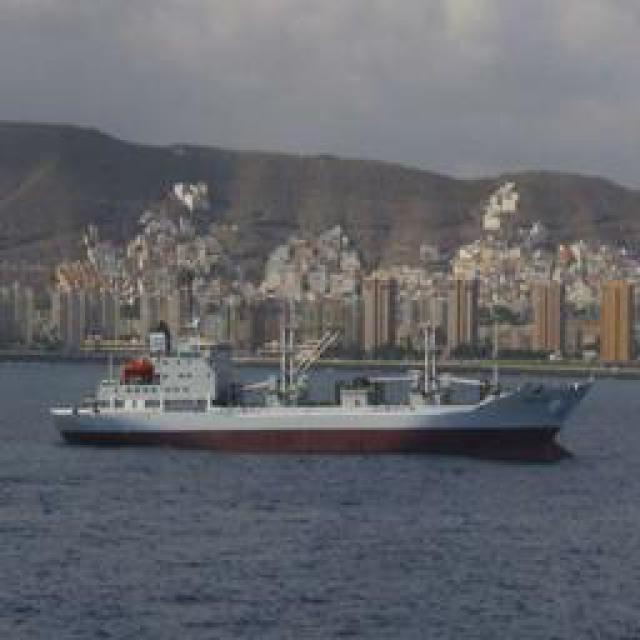Ship: (59, 358, 594, 463)
